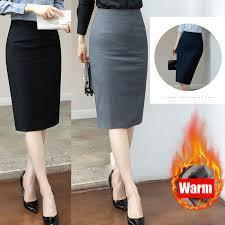skirt: (74, 6, 151, 127), (5, 13, 64, 134)
